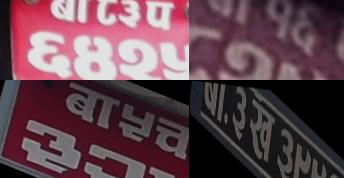1: (248, 0, 303, 47)
2: (203, 31, 285, 80), (103, 28, 171, 80), (72, 132, 148, 178)
3: (5, 105, 89, 178), (226, 84, 252, 148), (271, 118, 297, 178), (110, 0, 147, 33)
4: (57, 25, 128, 80), (130, 158, 189, 178)
5: (109, 96, 159, 147), (145, 27, 189, 80)
6: (14, 17, 82, 80), (280, 0, 334, 61), (319, 161, 344, 178)
8: (189, 6, 230, 80), (84, 0, 124, 31)
9: (259, 53, 340, 80), (288, 133, 314, 178), (304, 146, 329, 178)
ba: (51, 80, 123, 133), (191, 0, 268, 31), (40, 0, 95, 29), (198, 81, 231, 129)
cha: (143, 109, 189, 163), (320, 8, 344, 78)
kha: (243, 92, 278, 172)
pa: (134, 0, 180, 35)
